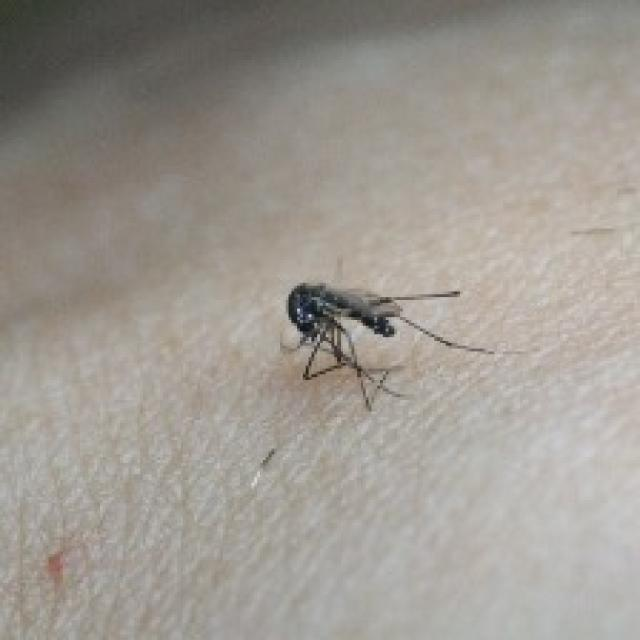aedes: (277, 274, 494, 412)
